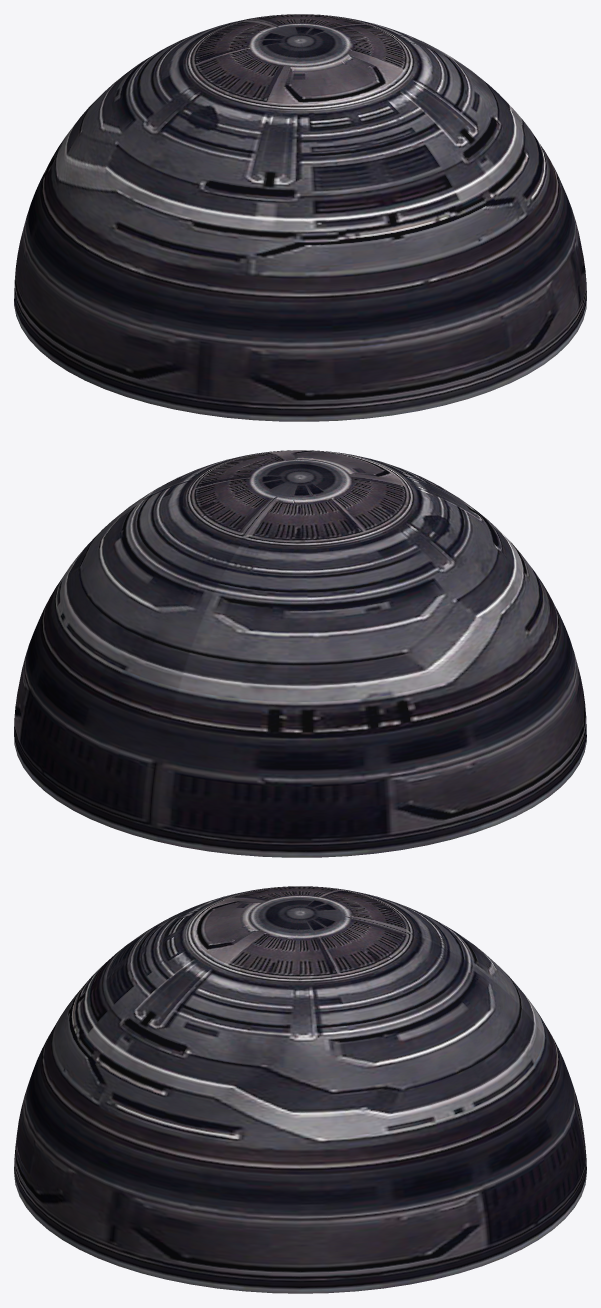
File: CubeBaseFrontColumnN1.fbx
3 views of the same model, one above another, from view 1: azimuth 30°, elevation 25°; view 2: azimuth 150°, elevation 25°; view 3: azimuth 270°, elevation 25° (orthographic).
Parts seen in each view (by area): view 1: Sphere01; view 2: Sphere01; view 3: Sphere01.
Boxes of the visible parts, x1=… form: Sphere01: x1=14, y1=14, x2=586, y2=421; Sphere01: x1=14, y1=450, x2=586, y2=857; Sphere01: x1=14, y1=886, x2=586, y2=1293.
Size of the model in its own units: 1.86 by 0.9278 by 1.86.
Materials: 1 (1 with a texture image).
